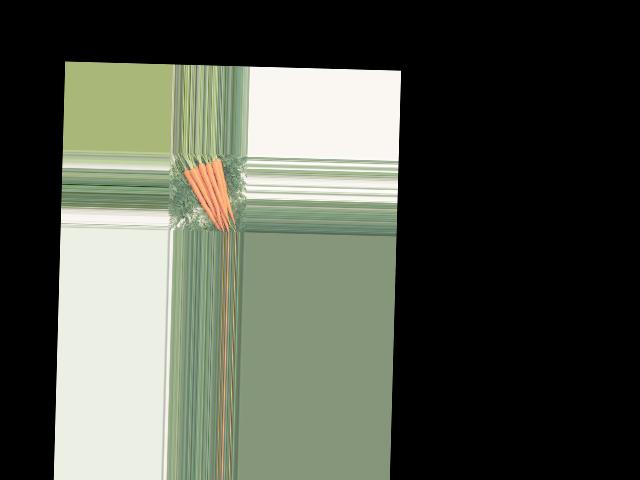carrot: (210, 156, 239, 228)
